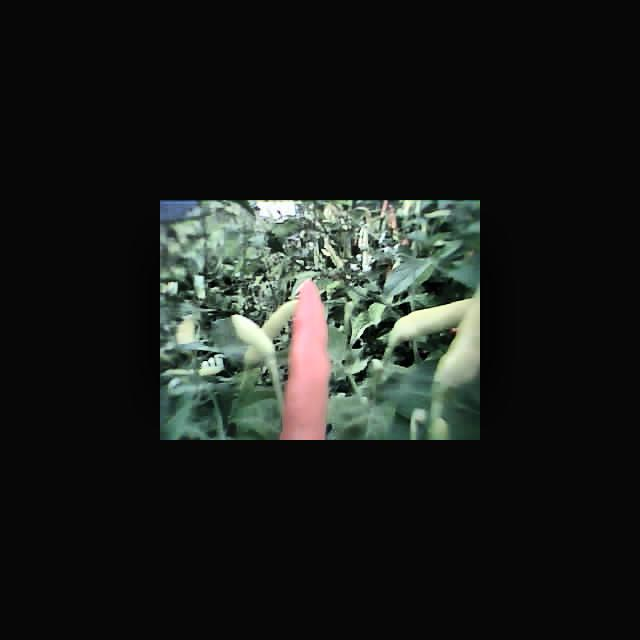Cabai: (283, 279, 329, 440)
